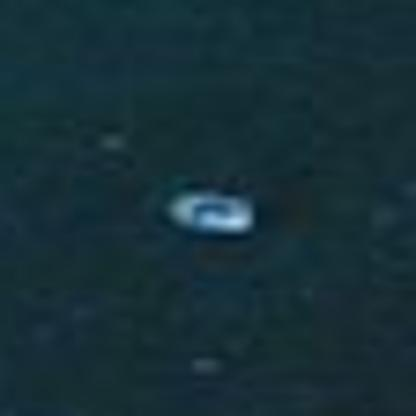ship: (142, 176, 268, 260)
